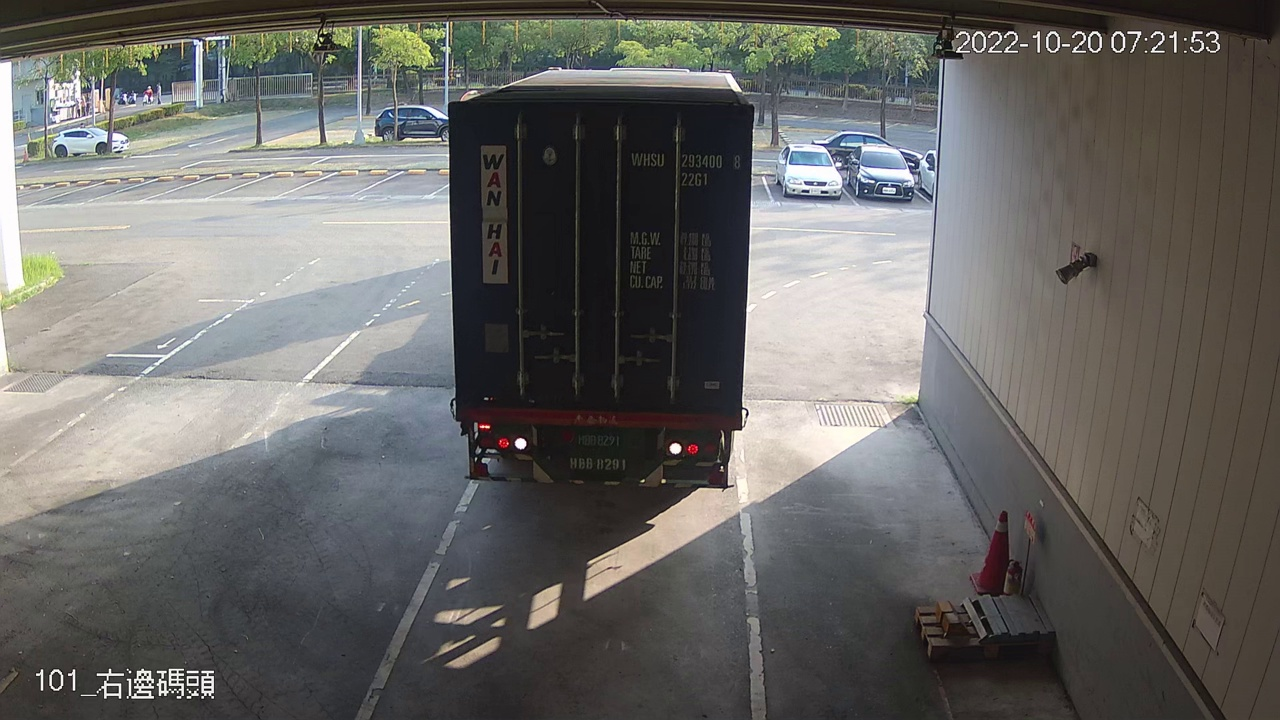container: (625, 146, 746, 191)
